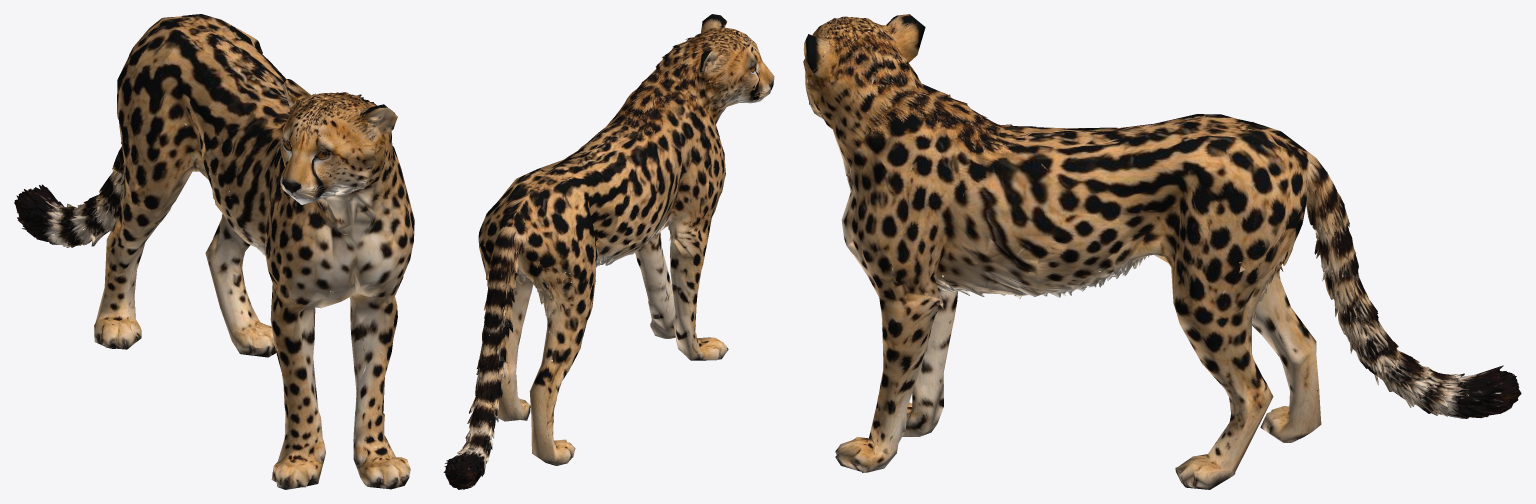
File: cheetah.glb
3 views of the same model, side by side, from view 1: azimuth 30°, elevation 25°; view 2: azimuth 150°, elevation 25°; view 3: azimuth 270°, elevation 25° (orthographic). The views are drawn at different scales.
Visible parts, largest first — view 1: cheetah; view 2: cheetah; view 3: cheetah.
Part boxes in pixels (left/top/right/bottom): cheetah: left=14, top=14, right=414, bottom=489; cheetah: left=443, top=14, right=774, bottom=489; cheetah: left=803, top=14, right=1521, bottom=489.
Size of the model in its own units: 0.4239 by 0.9275 by 1.47.
1 material, 1 textured.
